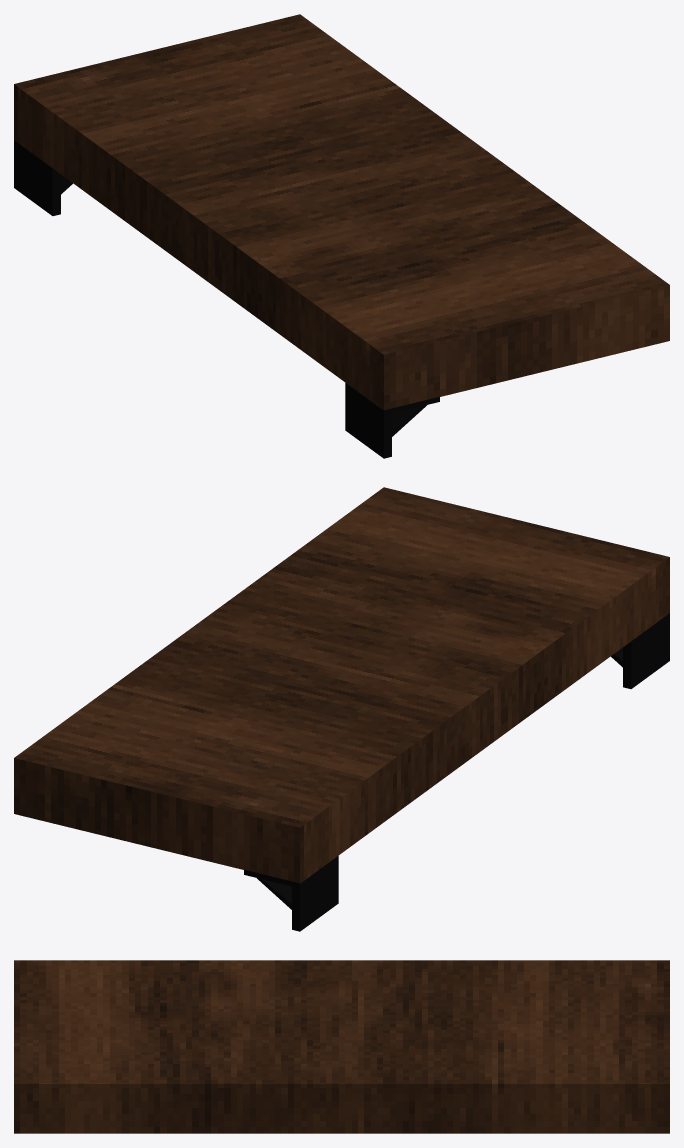
File: wall shelf.glb
3 renders of one model, top to bottom at view 1: azimuth 30°, elevation 25°; view 2: azimuth 150°, elevation 25°; view 3: azimuth 270°, elevation 25°, orthographic. The views are drawn at different scales.
Parts seen in each view (by area): view 1: Bracket.001; view 2: Bracket.001; view 3: Bracket.001.
Boxes of the visible parts, bbox=[...] form: Bracket.001: bbox=[14, 14, 669, 458]; Bracket.001: bbox=[14, 487, 669, 931]; Bracket.001: bbox=[14, 960, 669, 1133].
Bounding box in the file's own units: 0.8932 × 0.3101 × 2.
Materials: 2 (1 with a texture image).
